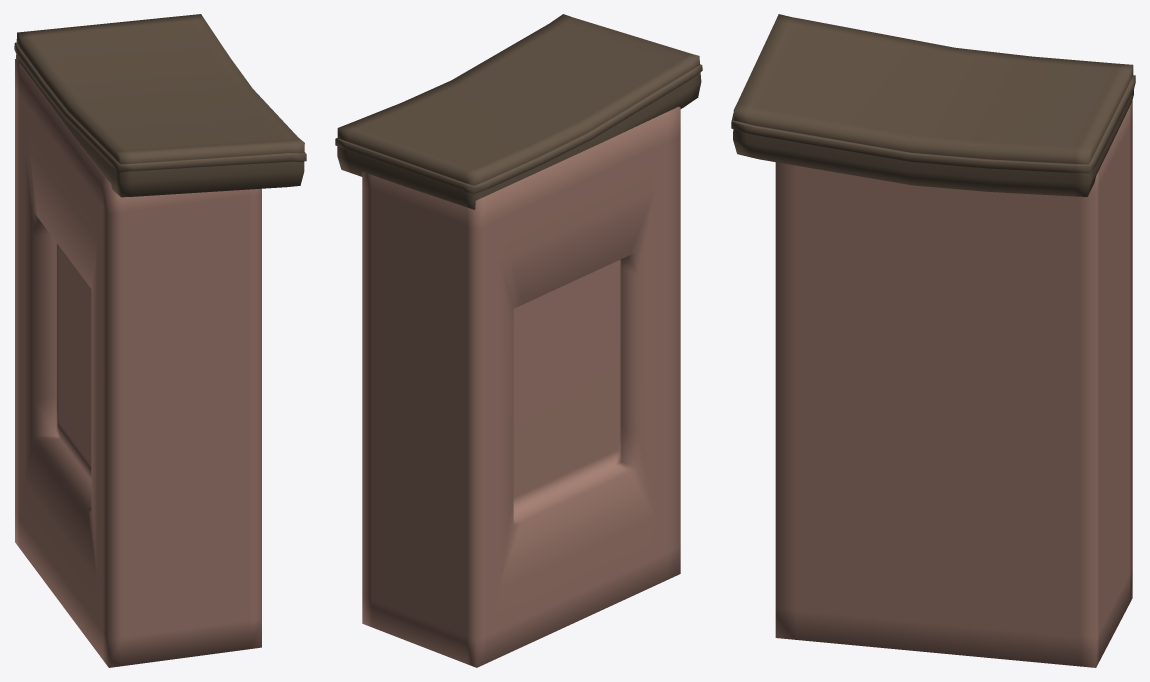
File: Kitchen_set_Kitchen_set_Kitchen_set_Props_grp_Kitchen_set_North_grp_Kitchen_set_NorthWall_grp_Kitchen_set_SpiceBox_1.obj
3 views of the same model, side by side, from view 1: azimuth 30°, elevation 25°; view 2: azimuth 150°, elevation 25°; view 3: azimuth 270°, elevation 25° (orthographic). The views are drawn at different scales.
Visible parts, largest first — view 1: Kitchen_set_pCube641 NCCA_Export, NCCA_Export Kitchen_set_pCube642; view 2: Kitchen_set_pCube641 NCCA_Export, NCCA_Export Kitchen_set_pCube642; view 3: Kitchen_set_pCube641 NCCA_Export, NCCA_Export Kitchen_set_pCube642.
Boxes of the visible parts, left/top/right/bottom form: Kitchen_set_pCube641 NCCA_Export: left=15, top=59, right=261, bottom=667; NCCA_Export Kitchen_set_pCube642: left=14, top=14, right=306, bottom=197; Kitchen_set_pCube641 NCCA_Export: left=362, top=106, right=680, bottom=667; NCCA_Export Kitchen_set_pCube642: left=335, top=14, right=702, bottom=209; Kitchen_set_pCube641 NCCA_Export: left=775, top=100, right=1132, bottom=667; NCCA_Export Kitchen_set_pCube642: left=731, top=14, right=1135, bottom=196.
Bounding box in the file's own units: 0.4602 × 1 × 0.6635.
